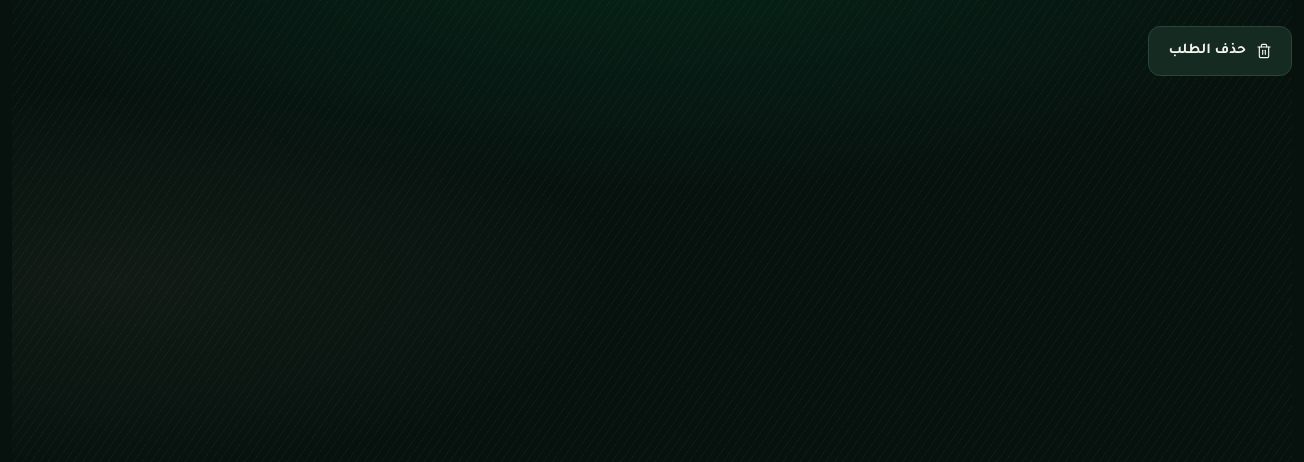
Scenario: requires a reason and only executes one confirmed request before reporting success
Later steps or results of the test are not shown.
Click the button "حذف الطلب": (1220, 51) [1148, 26, 1292, 76]
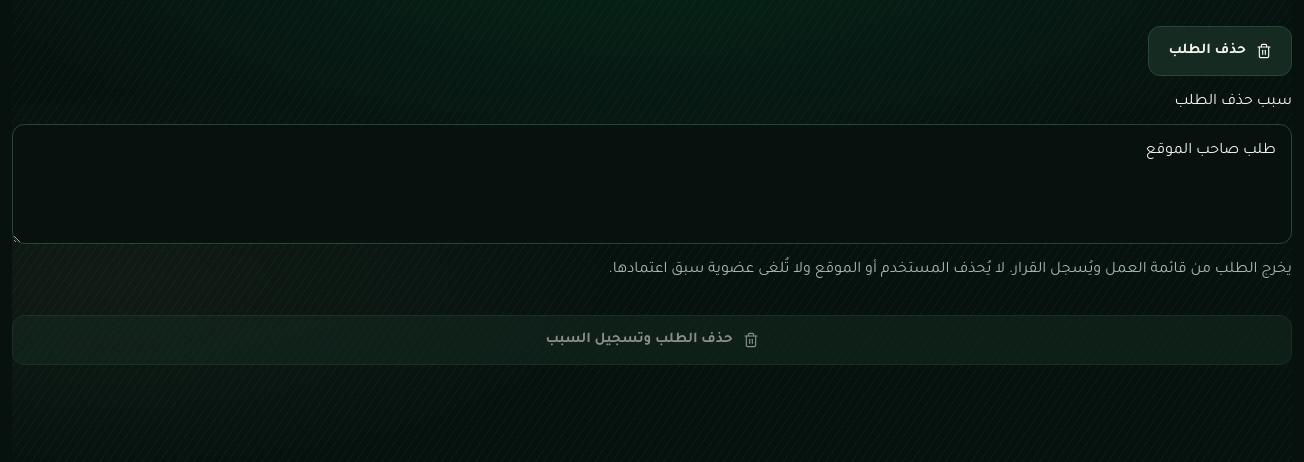
Expected: the text box labelled "سبب حذف الطلب" is shown, [12, 124, 1292, 244]
Expected: the button "حذف الطلب وتسجيل السبب" is disabled, [12, 315, 1292, 365]
